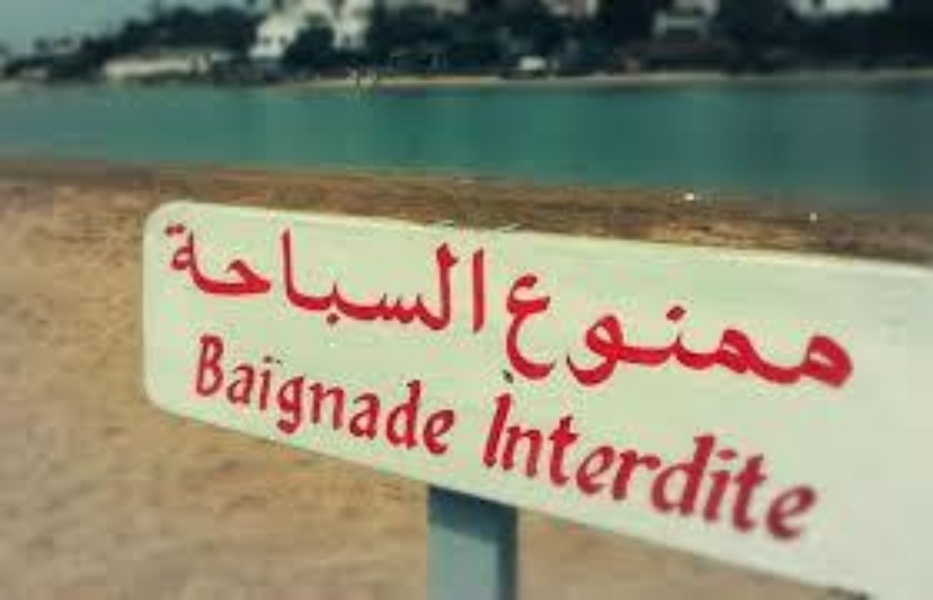text: (497, 384, 512, 551), (513, 384, 528, 551), (529, 384, 544, 551), (545, 384, 560, 551), (561, 384, 576, 551), (577, 384, 592, 551), (593, 384, 608, 551), (609, 384, 624, 551), (625, 384, 640, 551), (641, 384, 656, 551), (657, 384, 672, 551), (673, 384, 688, 551), (689, 384, 704, 551), (705, 384, 720, 551), (721, 384, 736, 551), (737, 384, 752, 551), (753, 384, 768, 551), (769, 384, 784, 551), (785, 384, 800, 551), (801, 384, 816, 551), (817, 384, 832, 551), (209, 331, 224, 474), (225, 331, 240, 474), (241, 331, 256, 474), (257, 331, 272, 474), (273, 331, 288, 474), (289, 331, 304, 474), (305, 331, 320, 474), (321, 331, 336, 474), (337, 331, 352, 474), (353, 331, 368, 474), (369, 331, 384, 474), (385, 331, 400, 474), (401, 331, 416, 474), (417, 331, 432, 474), (433, 331, 448, 474), (449, 331, 464, 474), (497, 267, 512, 407), (513, 267, 528, 407), (529, 267, 544, 407), (545, 267, 560, 407), (561, 267, 576, 407), (577, 267, 592, 407), (593, 267, 608, 407), (609, 267, 624, 407), (625, 267, 640, 407), (641, 267, 656, 407), (657, 267, 672, 407), (673, 267, 688, 407), (689, 267, 704, 407), (705, 267, 720, 407), (721, 267, 736, 407), (737, 267, 752, 407), (753, 267, 768, 407), (769, 267, 784, 407), (785, 267, 800, 407), (801, 267, 816, 407), (817, 267, 832, 407), (833, 267, 848, 407), (194, 331, 208, 474), (161, 217, 176, 347), (177, 217, 192, 347), (193, 217, 208, 347), (209, 217, 224, 347), (225, 217, 240, 347), (241, 217, 256, 347), (257, 217, 272, 347), (273, 217, 288, 347), (289, 217, 304, 347), (305, 217, 320, 347), (321, 217, 336, 347), (337, 217, 352, 347), (353, 217, 368, 347), (369, 217, 384, 347), (385, 217, 400, 347), (401, 217, 416, 347), (417, 217, 432, 347), (433, 217, 448, 347), (449, 217, 464, 347), (465, 217, 480, 347), (481, 217, 487, 347), (849, 267, 854, 407), (833, 384, 837, 551)
